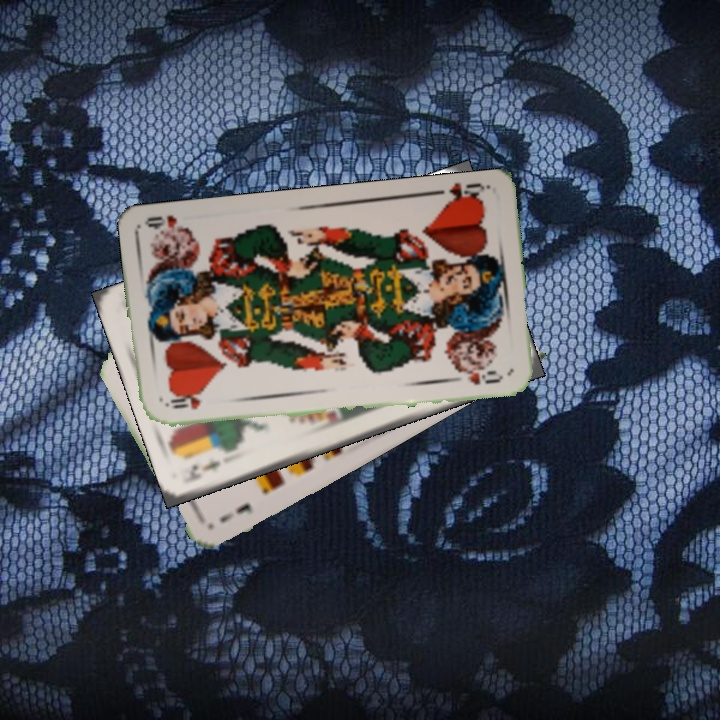E7: (216, 499, 255, 525)
EK: (183, 455, 223, 484)
HO: (441, 178, 490, 208), (161, 393, 203, 412)
